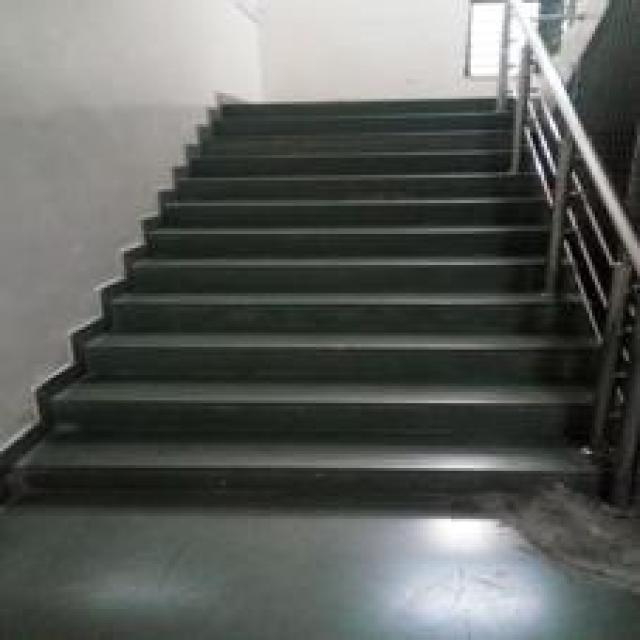upstair: (21, 289, 562, 528)
